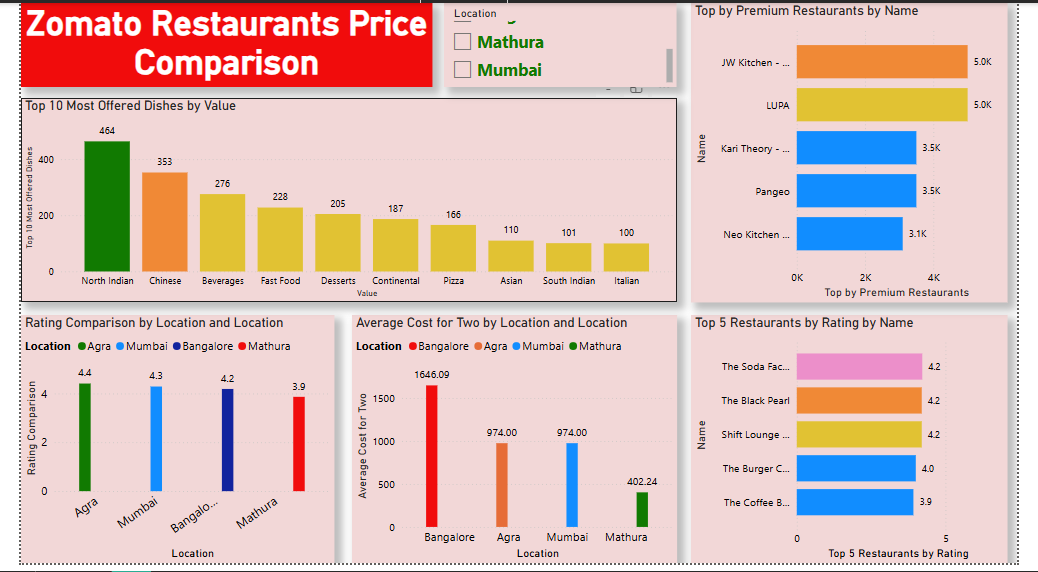

Layout of this report page (visuals, bound fields, positions):
{"tool":"powerbi","page":{"name":"Page 1","canvas":[1280,720],"ordinal":0},"visuals":[{"type":"textbox","title":"Zomato Restaurants Price Comparison","box":[0,0,529.1,107.5],"z":0},{"type":"clusteredColumnChart","fields":{"Category":["zomato_restaurants_cleaned.Target_Location"],"Y":["Avg(zomato_restaurants_cleaned.Rating)"],"Series":["zomato_restaurants_cleaned.Target_Location"]},"box":[0,401.5,403.1,319.2],"z":1},{"type":"clusteredColumnChart","fields":{"Category":["zomato_restaurants_cleaned.Target_Location"],"Y":["Avg(zomato_restaurants_cleaned.Cost_for_Two)"],"Series":["zomato_restaurants_cleaned.Target_Location"]},"box":[425,401.5,418.3,319.2],"z":2},{"type":"clusteredBarChart","fields":{"Category":["zomato_restaurants_cleaned.Name"],"Y":["Avg(zomato_restaurants_cleaned.Rating)"]},"box":[861.7,401.5,406.5,319.2],"z":3},{"type":"clusteredBarChart","fields":{"Category":["zomato_restaurants_cleaned.Name"],"Y":["Avg(zomato_restaurants_cleaned.Cost_for_Two)"]},"box":[861.7,0,406.5,384.7],"z":4},{"type":"columnChart","fields":{"Category":["zomato_restaurants_cleaned.Value"],"Y":["CountNonNull(zomato_restaurants_cleaned.Value)"]},"box":[0,122.6,843.3,262],"z":5},{"type":"slicer","fields":{"Values":["zomato_restaurants_cleaned.Target_Location"]},"box":[544.3,0,299,107.5],"z":6}]}

Visuals, with their boxes in screenshot pixels (x1, y1, x2, y2), scaled from the page's 1280x720 canvas onto the 1038x572 screenshot:
"Zomato Restaurants Price Comparison" textbox: {"x1": 0, "y1": 0, "x2": 429, "y2": 85}
clusteredColumnChart - zomato_restaurants_cleaned.Target_Location x Avg(zomato_restaurants_cleaned.Rating): {"x1": 0, "y1": 319, "x2": 327, "y2": 571}
clusteredColumnChart - zomato_restaurants_cleaned.Target_Location x Avg(zomato_restaurants_cleaned.Cost_for_Two): {"x1": 345, "y1": 319, "x2": 684, "y2": 571}
clusteredBarChart - zomato_restaurants_cleaned.Name x Avg(zomato_restaurants_cleaned.Rating): {"x1": 699, "y1": 319, "x2": 1028, "y2": 571}
clusteredBarChart - zomato_restaurants_cleaned.Name x Avg(zomato_restaurants_cleaned.Cost_for_Two): {"x1": 699, "y1": 0, "x2": 1028, "y2": 306}
columnChart - zomato_restaurants_cleaned.Value x CountNonNull(zomato_restaurants_cleaned.Value): {"x1": 0, "y1": 97, "x2": 684, "y2": 306}
slicer - zomato_restaurants_cleaned.Target_Location: {"x1": 441, "y1": 0, "x2": 684, "y2": 85}
